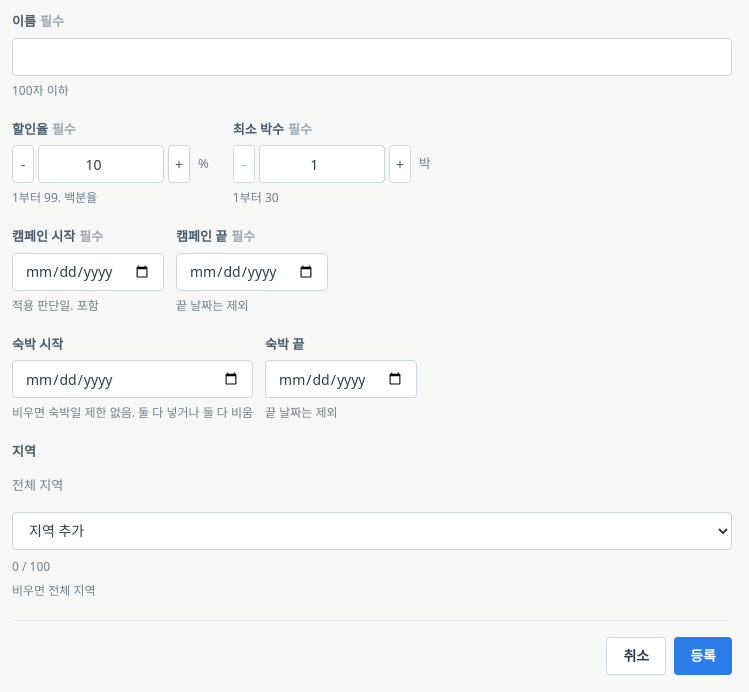
Test: W08의 O2 몫. 화면 검사가 서버보다 먼저 › 화면에서 숙박 시작만 넣고 제출하면 문구가 뜨고 요청이 없다
Type "가을 10%" into the field labelled "이름".
click(372, 56); type("가을 10%")  # box 12,38 -> 732,76
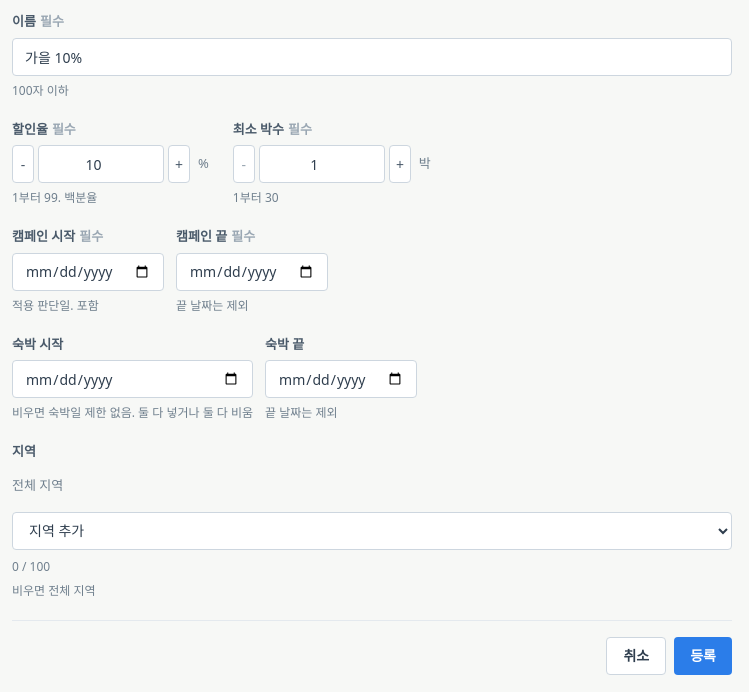
Type "2026-10-01" into the date field labelled "캠페인 시작".
click(88, 272); type("2026-10-01")  # box 12,252 -> 164,290
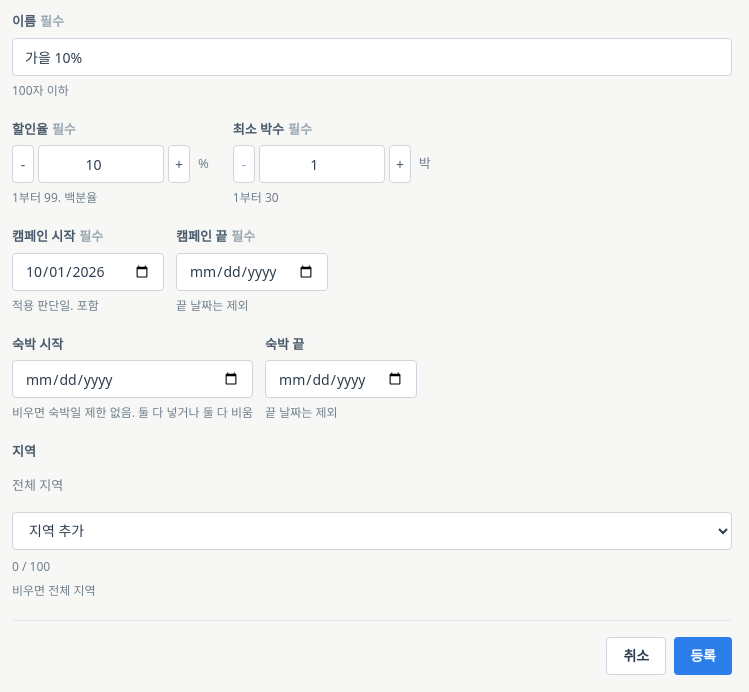
Type "2026-11-01" into the date field labelled "캠페인 끝".
click(252, 272); type("2026-11-01")  # box 176,252 -> 328,290
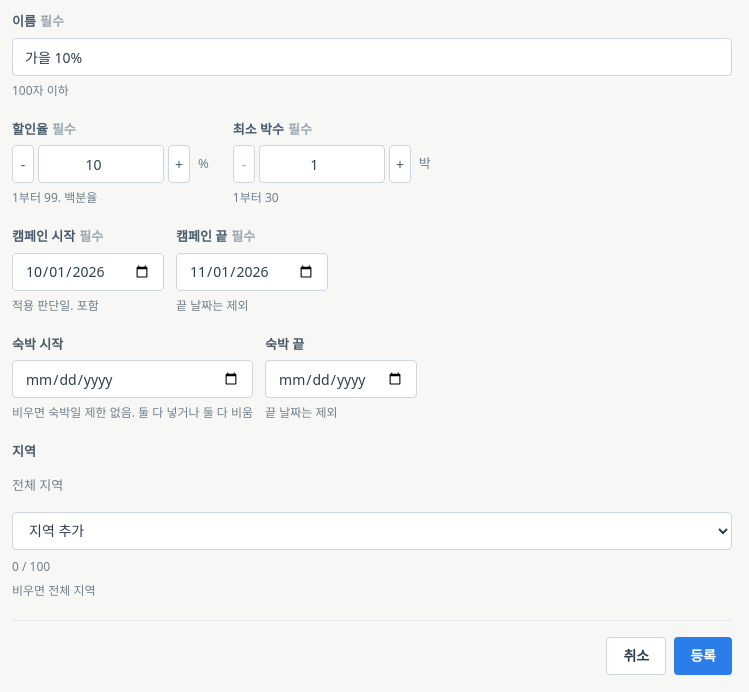
Type "2026-10-01" into the date field labelled "숙박 시작".
click(133, 379); type("2026-10-01")  # box 12,360 -> 253,398
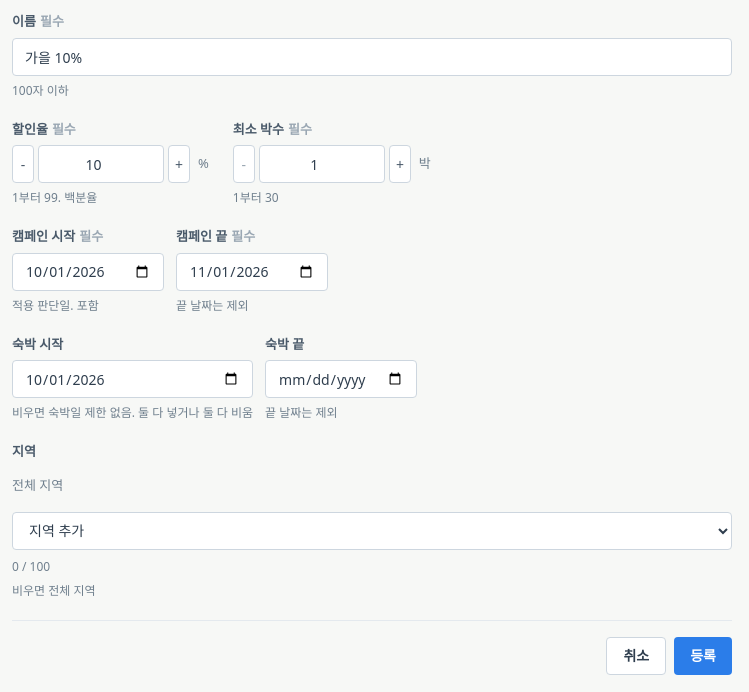
Click the button "등록".
click(703, 656)  # box 674,636 -> 732,674
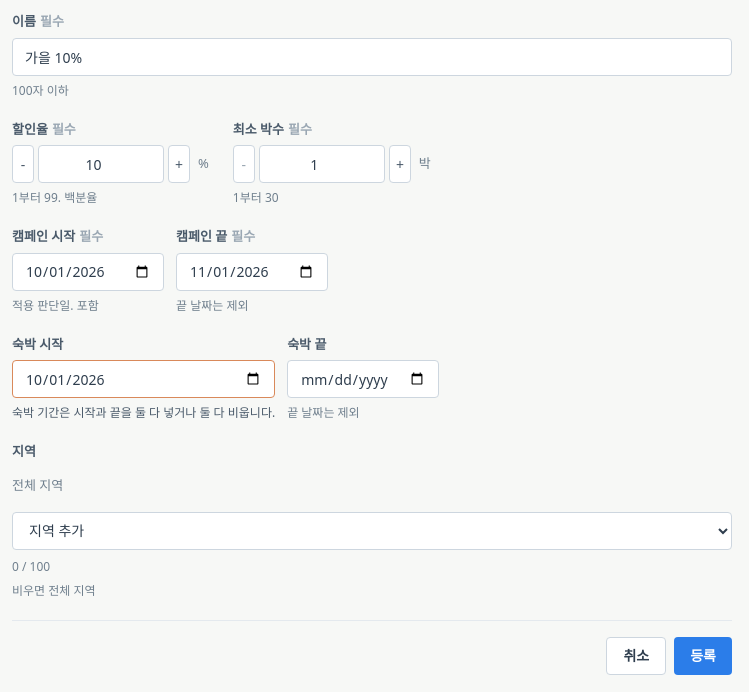
Expected: the text "숙박 기간은 시작과 끝을 둘 다 넣거나 둘 다 비웁니다." is shown, 12,404 -> 275,422
